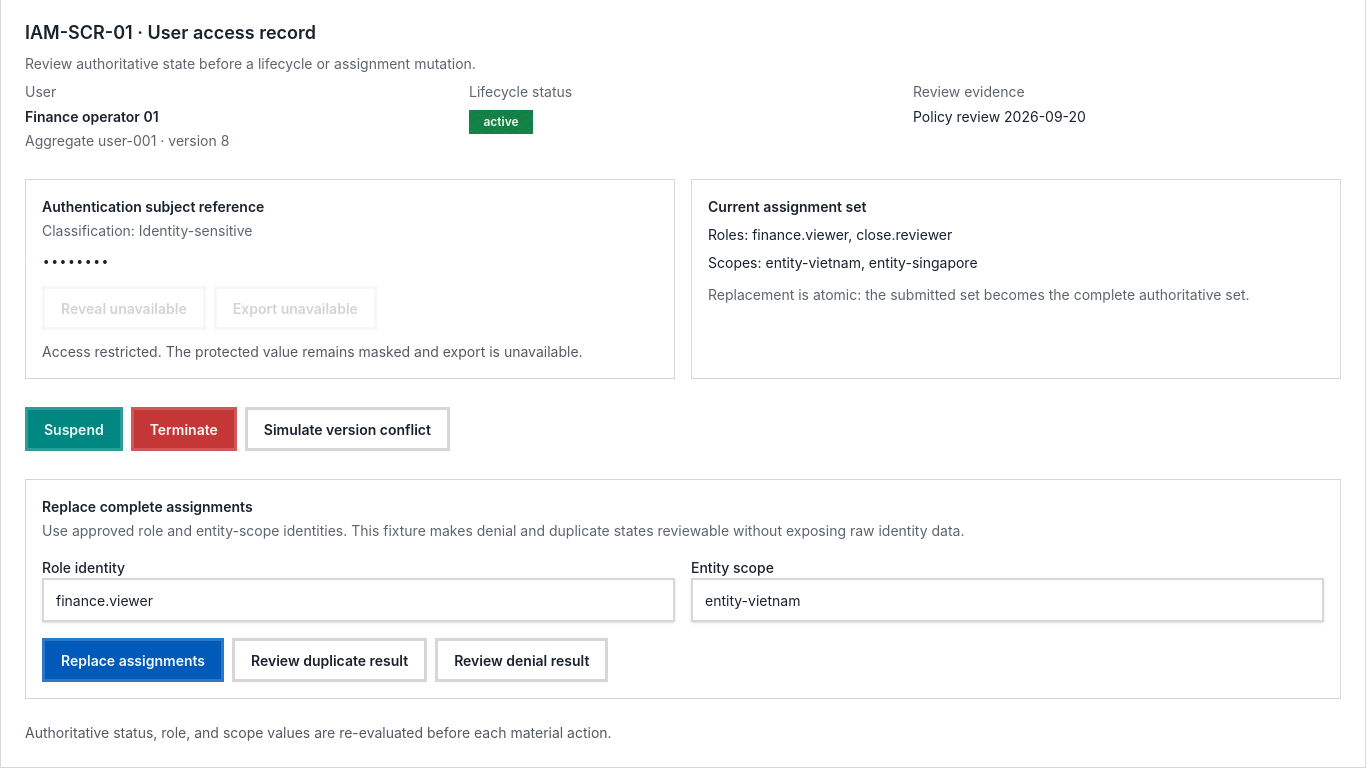
Test: identity access workspace › opens a version conflict recovery dialog
(page scrolled)
What coordinates should you click on to do the following:
click the button "Simulate version conflict"
I would click on:
 (347, 429)
Its box is [245,407,450,451].
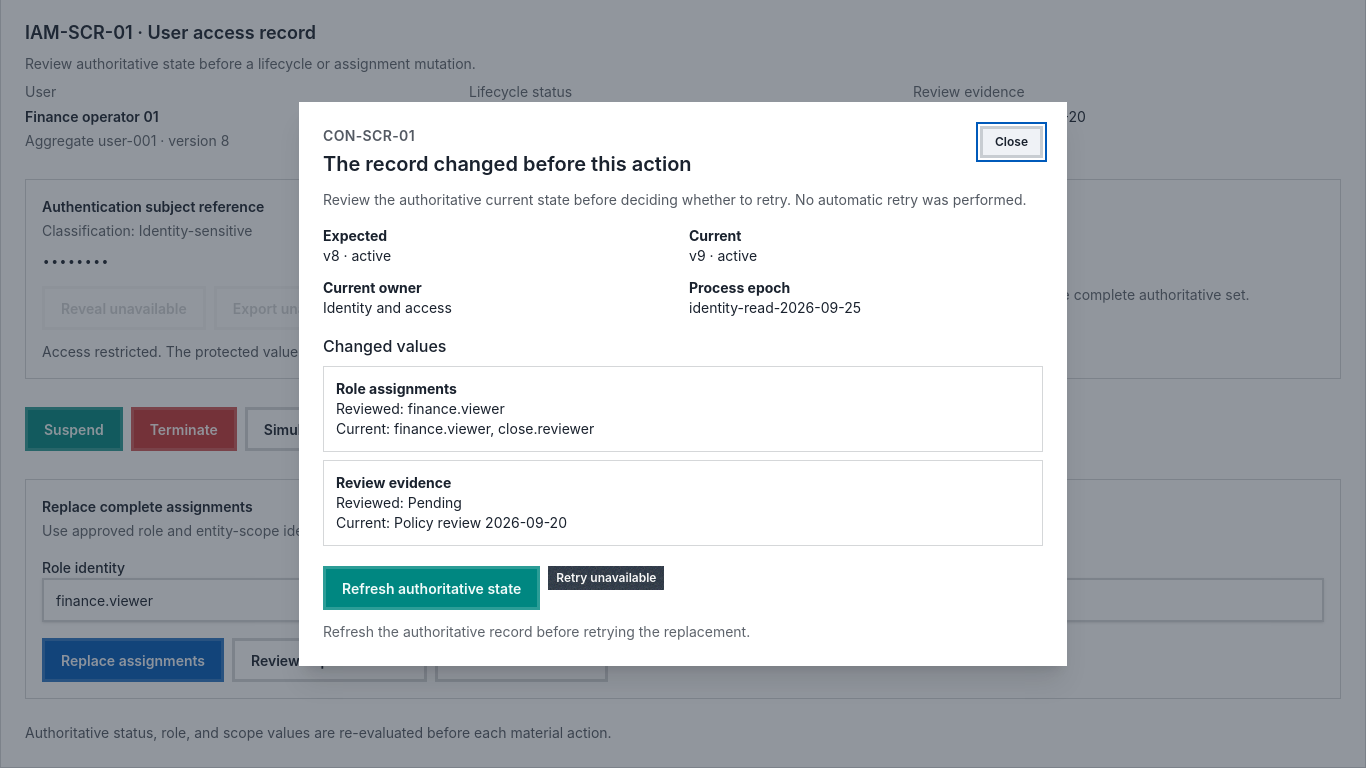
Result: the dialog is shown at [299,102,1067,666]
Result: the heading "The record changed before this action" is shown at [323,150,692,178]
Result: the button "Refresh authoritative state" is shown at [323,566,540,610]
